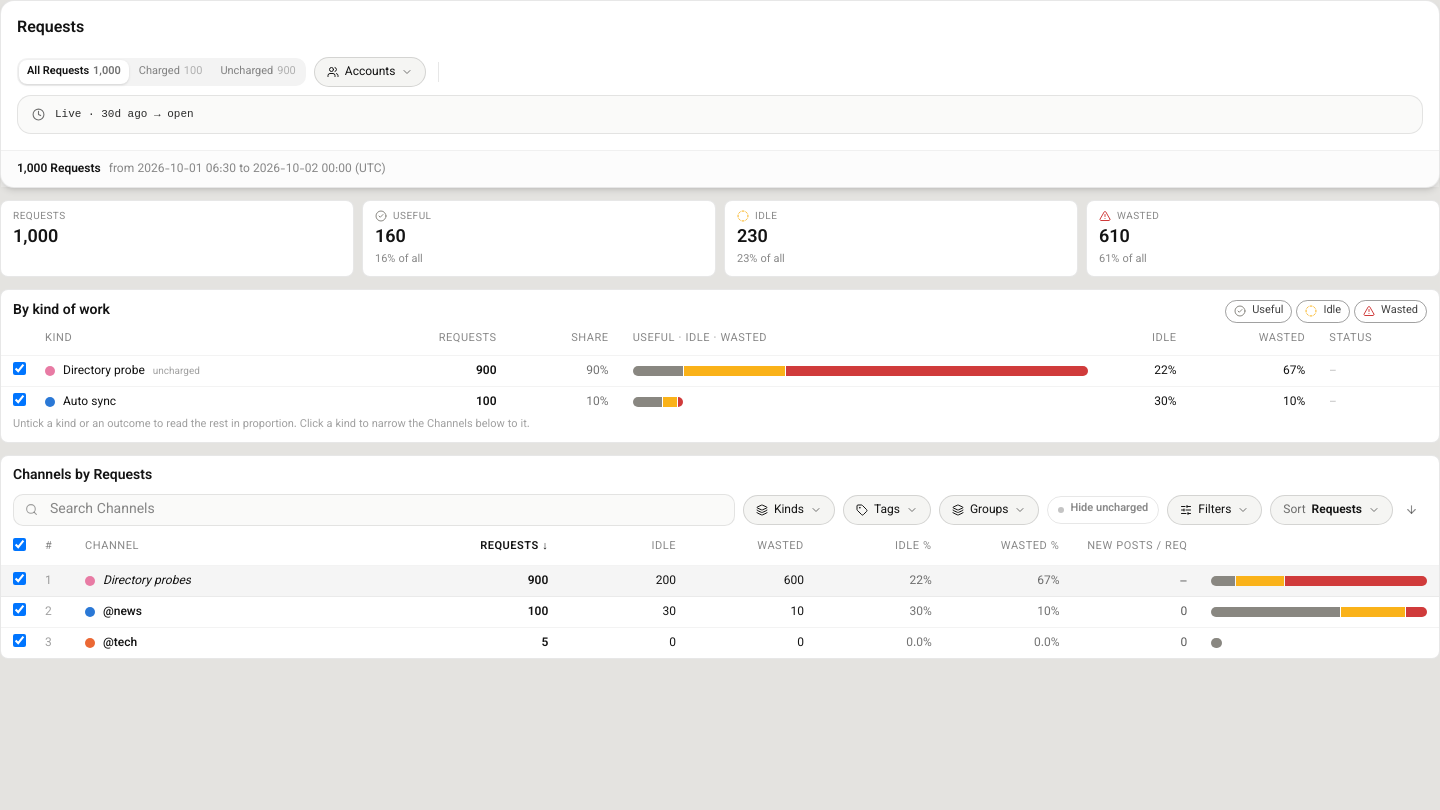
Test case: RequestsView › hiding an outcome or a kind drops it from the stat strip and the footer's total
Click the button "Wasted" in the row of "By kind of work" at (1391, 311), box [1354, 300, 1427, 322]
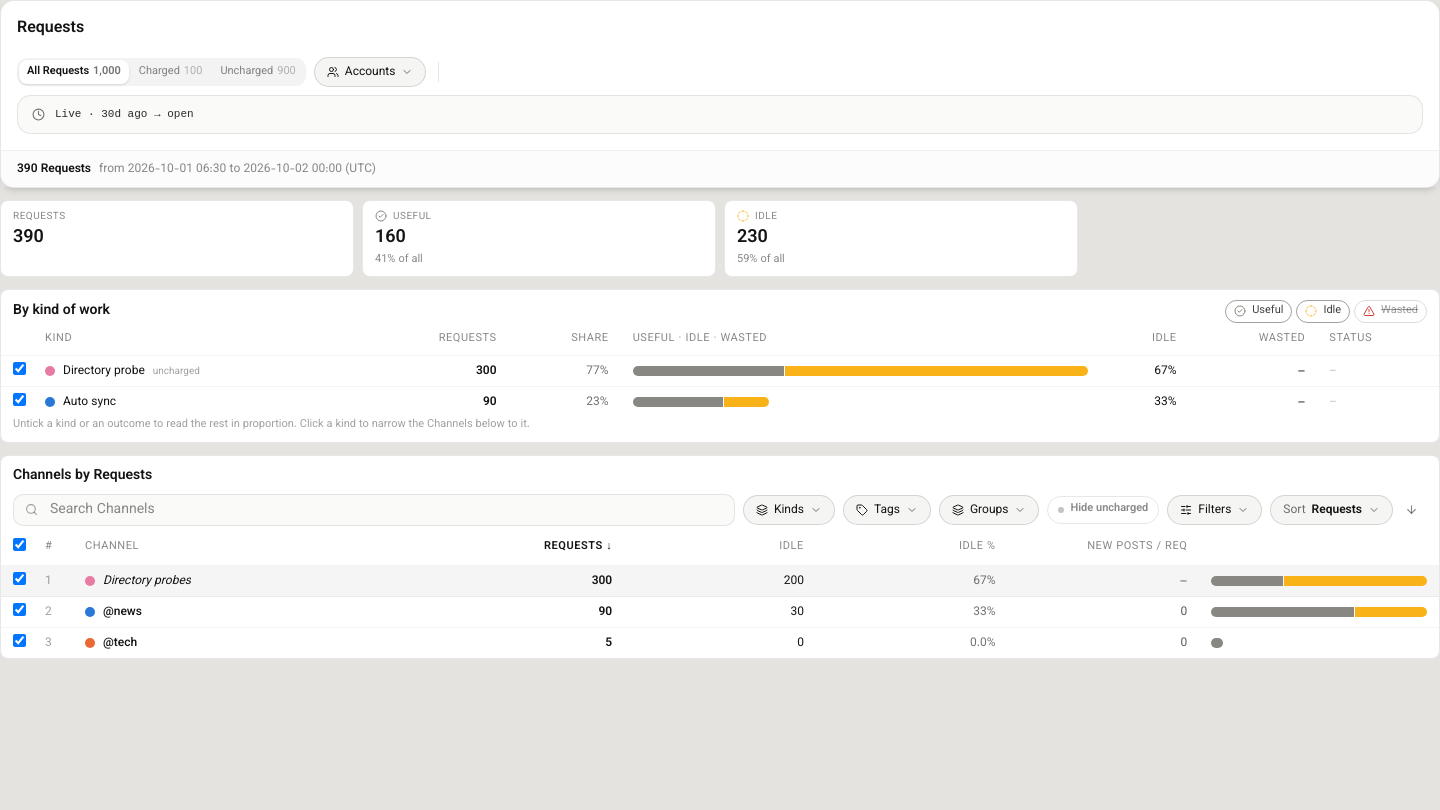
Expected: the element with test id "requests-stat-wasted" is gone
Expected: the text with test id "requests-total" reads "390 Requests", [17, 160, 91, 178]
Expected: the element with test id "requests-stat-idle" reads "Idle 230 59% of all", [724, 200, 1078, 277]
Click the checkbox named "Show Directory probe" at (20, 368), box [13, 362, 26, 374]
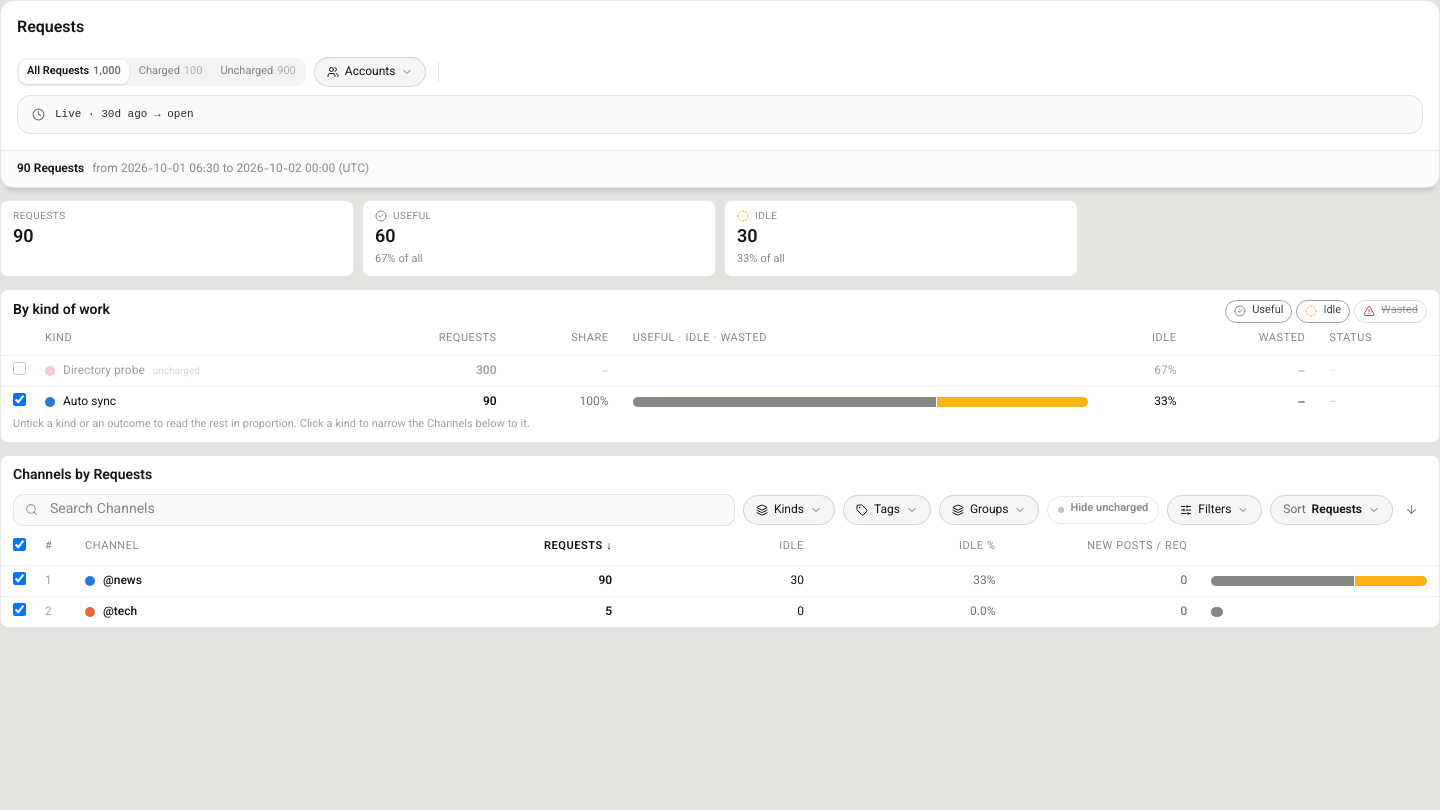
Expected: the text with test id "requests-total" reads "90 Requests", [17, 160, 84, 178]
